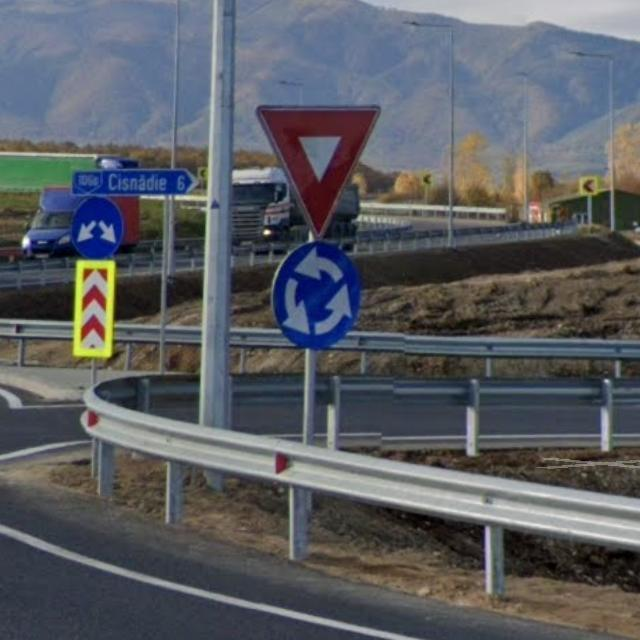prio_give_way: (254, 102, 382, 240)
